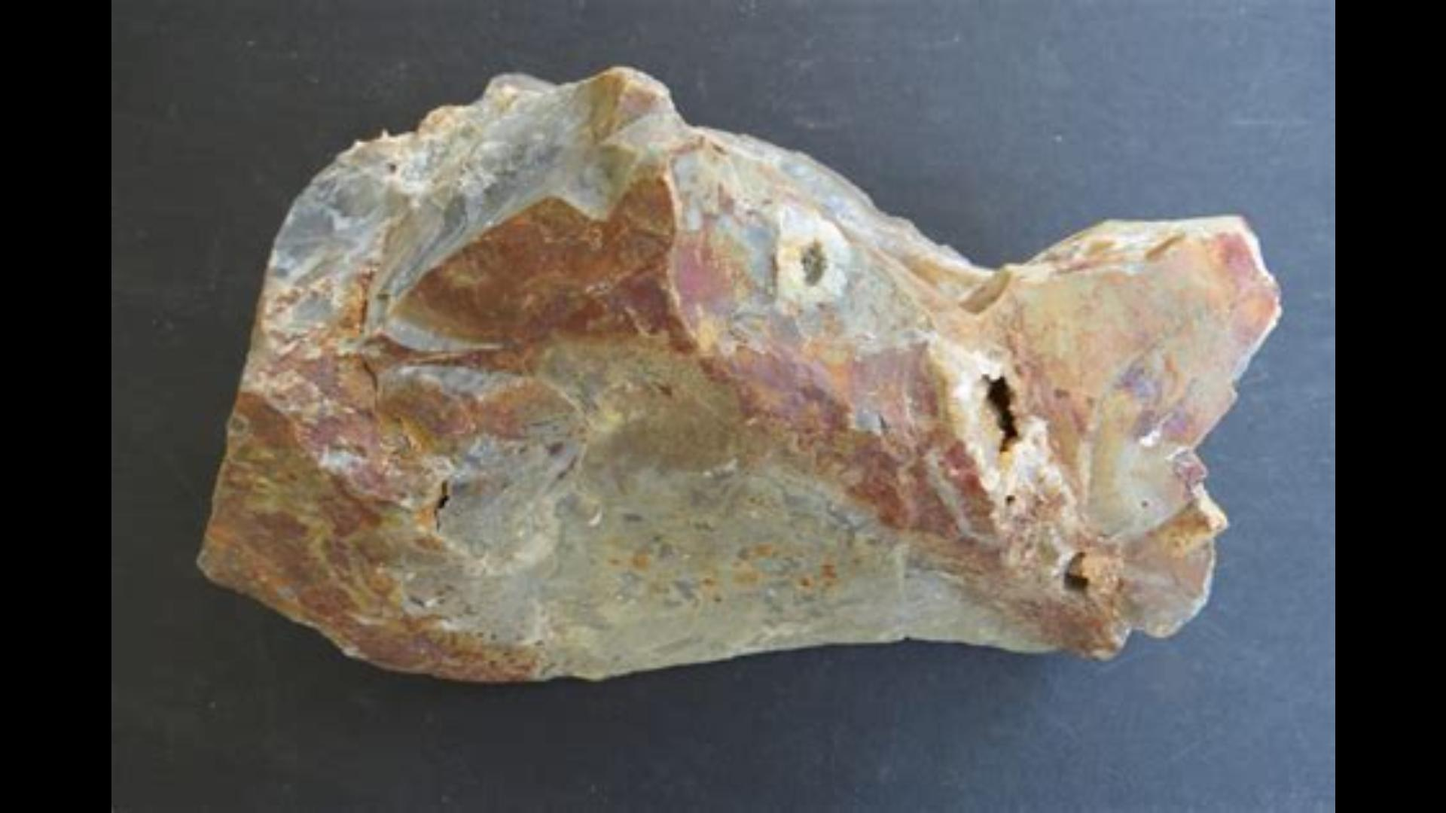rock: (199, 70, 1273, 676)
